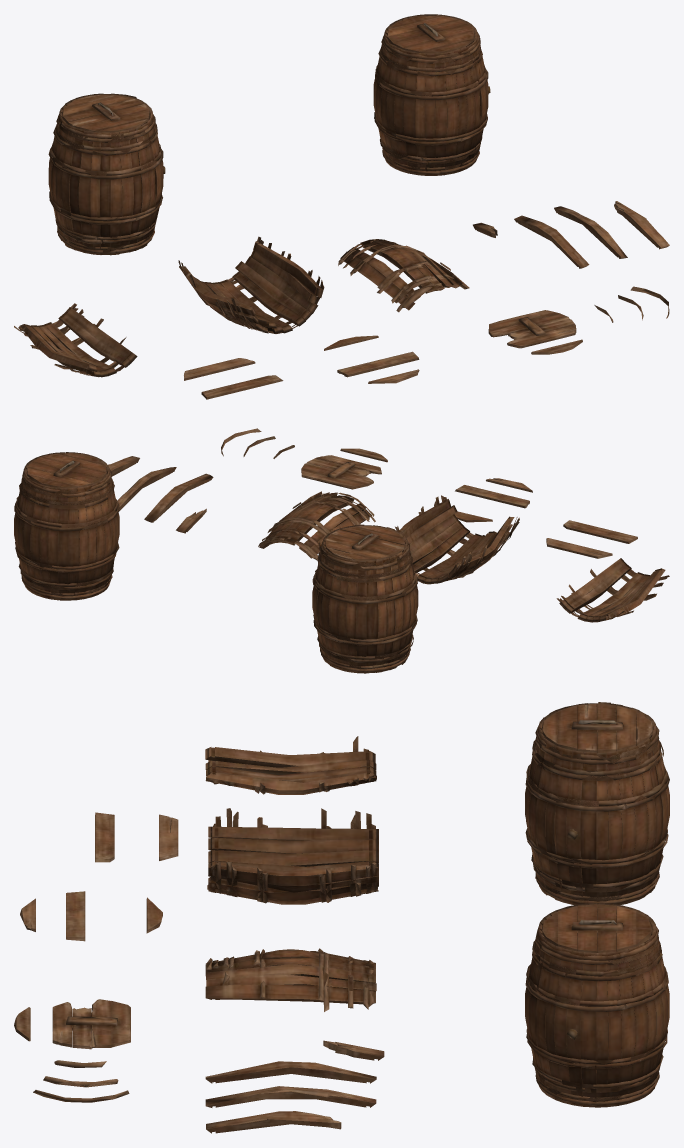
File: wooden_barrels_01.glb
3 views of the same model, one above another, from view 1: azimuth 30°, elevation 25°; view 2: azimuth 150°, elevation 25°; view 3: azimuth 270°, elevation 25° (orthographic). The views are drawn at different scales.
Visible parts, largest first — view 1: wooden_barrels_01_piece01, wooden_barrels_01_barrel02, wooden_barrels_01_barrel01; view 2: wooden_barrels_01_piece01, wooden_barrels_01_barrel02, wooden_barrels_01_barrel01; view 3: wooden_barrels_01_piece01, wooden_barrels_01_barrel01, wooden_barrels_01_barrel02.
Boxes of the visible parts, bbox=[...] form: wooden_barrels_01_piece01: bbox=[14, 201, 669, 399]; wooden_barrels_01_barrel02: bbox=[48, 93, 165, 255]; wooden_barrels_01_barrel01: bbox=[373, 14, 490, 175]; wooden_barrels_01_piece01: bbox=[108, 428, 669, 622]; wooden_barrels_01_barrel02: bbox=[312, 524, 418, 673]; wooden_barrels_01_barrel01: bbox=[14, 452, 119, 600]; wooden_barrels_01_piece01: bbox=[14, 736, 384, 1133]; wooden_barrels_01_barrel01: bbox=[525, 903, 669, 1107]; wooden_barrels_01_barrel02: bbox=[525, 702, 669, 904].
Bounding box in the file's own units: 4.44 × 0.953 × 3.34.
Materials: 3 (3 with a texture image).
